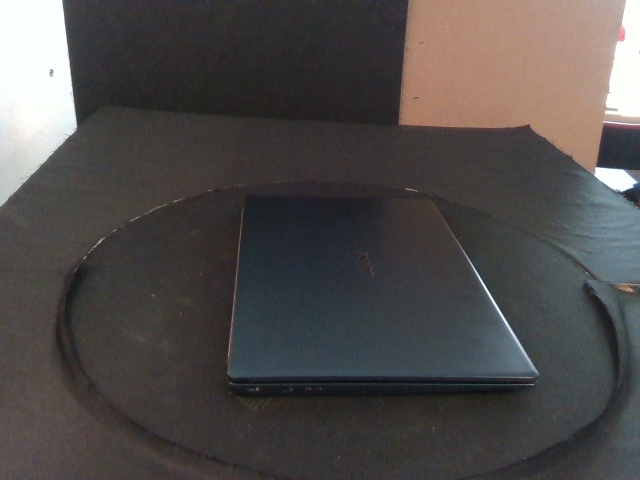laptop: (227, 194, 540, 396)
